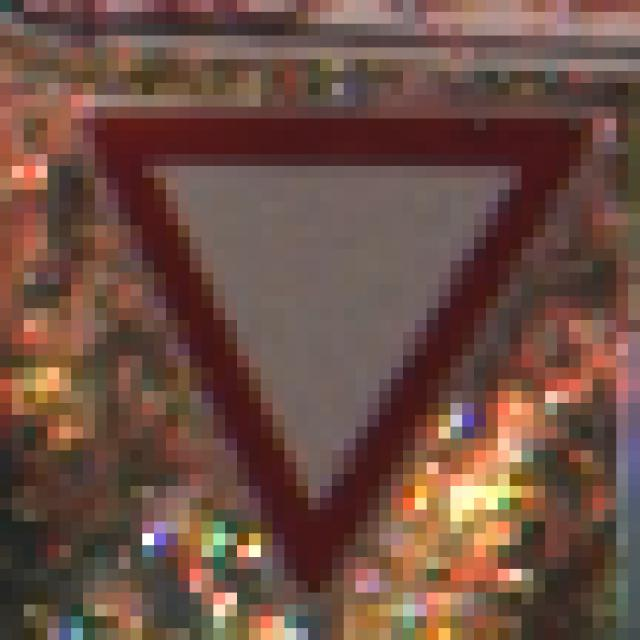Give Way: (60, 60, 570, 582)
